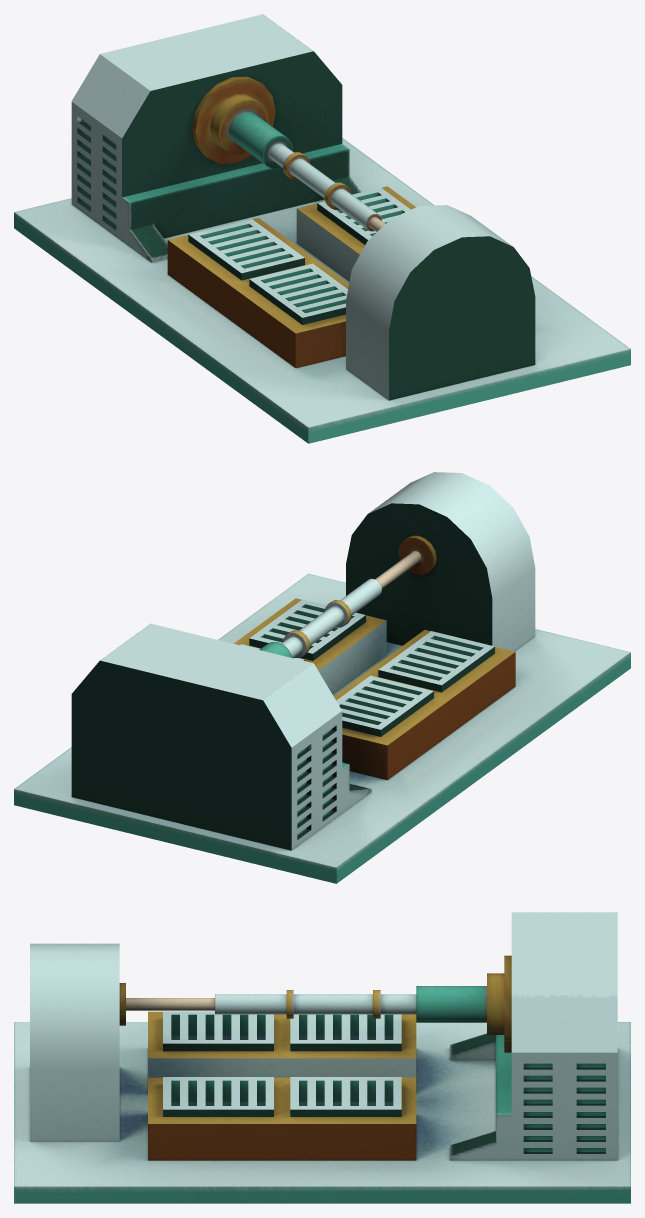
File: Machine_E.FBX
3 renders of one model, top to bottom at view 1: azimuth 30°, elevation 25°; view 2: azimuth 150°, elevation 25°; view 3: azimuth 270°, elevation 25°, orthographic. The views are drawn at different scales.
Visible parts, largest first — view 1: Machine_E; view 2: Machine_E; view 3: Machine_E.
Part boxes in pixels (x1=…): Machine_E: x1=14, y1=14, x2=630, y2=443; Machine_E: x1=14, y1=472, x2=630, y2=883; Machine_E: x1=14, y1=912, x2=630, y2=1203.
Size of the model in its own units: 83.68 by 40.06 by 132.
